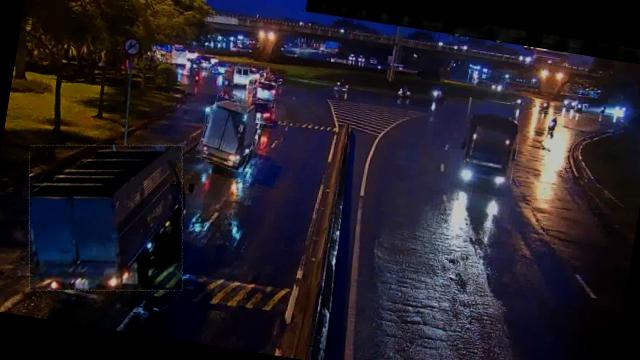Car: (245, 97, 275, 125), (250, 80, 276, 102)
Truck: (14, 128, 198, 306), (458, 97, 524, 183), (198, 96, 262, 172)
